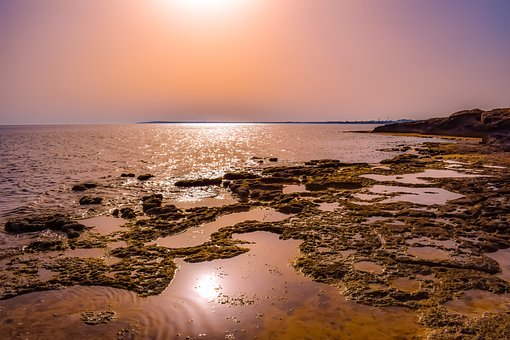sea: (4, 125, 500, 320)
sky: (5, 5, 503, 120)
